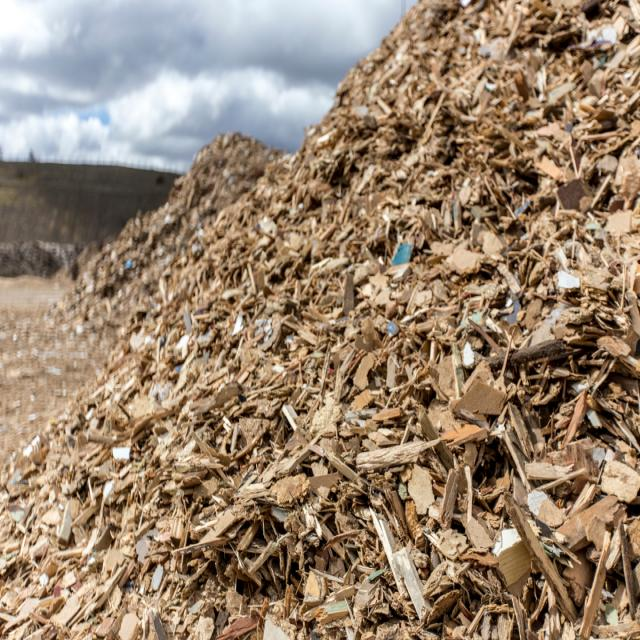green waste: (6, 11, 636, 635)
